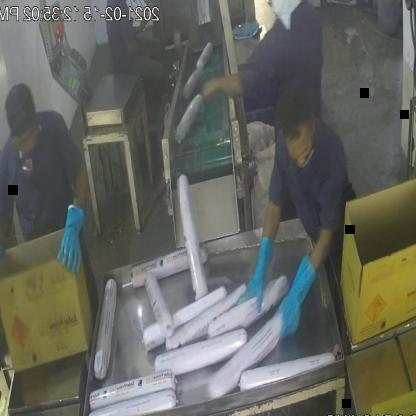glove: (277, 246, 321, 336), (235, 225, 274, 323), (56, 197, 93, 278)
no_glove: (199, 70, 253, 107)
